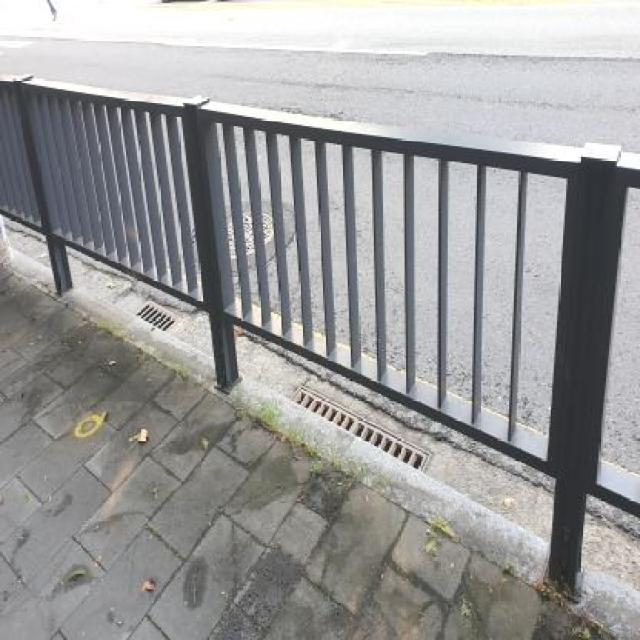fence: (155, 42, 640, 603), (0, 33, 283, 399)
